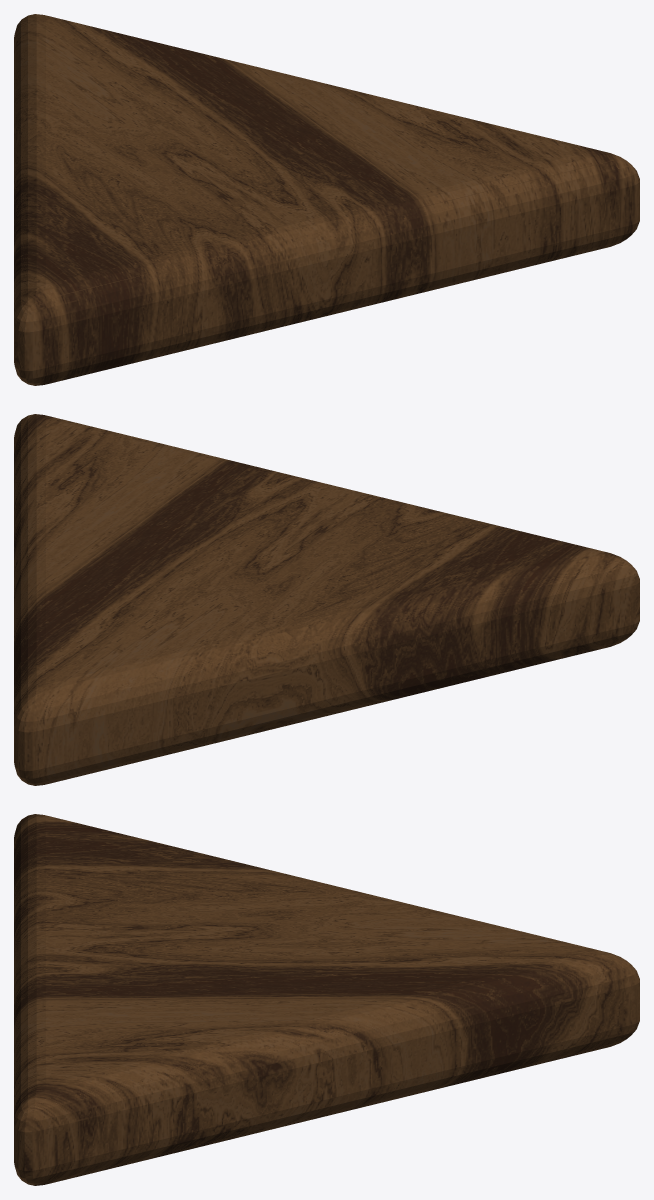
File: dark_field_mesh.obj
3 views of the same model, one above another, from view 1: azimuth 30°, elevation 25°; view 2: azimuth 150°, elevation 25°; view 3: azimuth 270°, elevation 25° (orthographic).
Parts seen in each view (by area): view 1: Cylinder_Cylinder.002; view 2: Cylinder_Cylinder.002; view 3: Cylinder_Cylinder.002.
Part boxes in pixels (x1,y1,x2,y2): Cylinder_Cylinder.002: (14,14,639,385); Cylinder_Cylinder.002: (14,414,639,785); Cylinder_Cylinder.002: (14,814,639,1185).
Bounding box in the file's own units: 0.6718 × 0.1 × 0.5859.
Materials: 1 (1 with a texture image).
